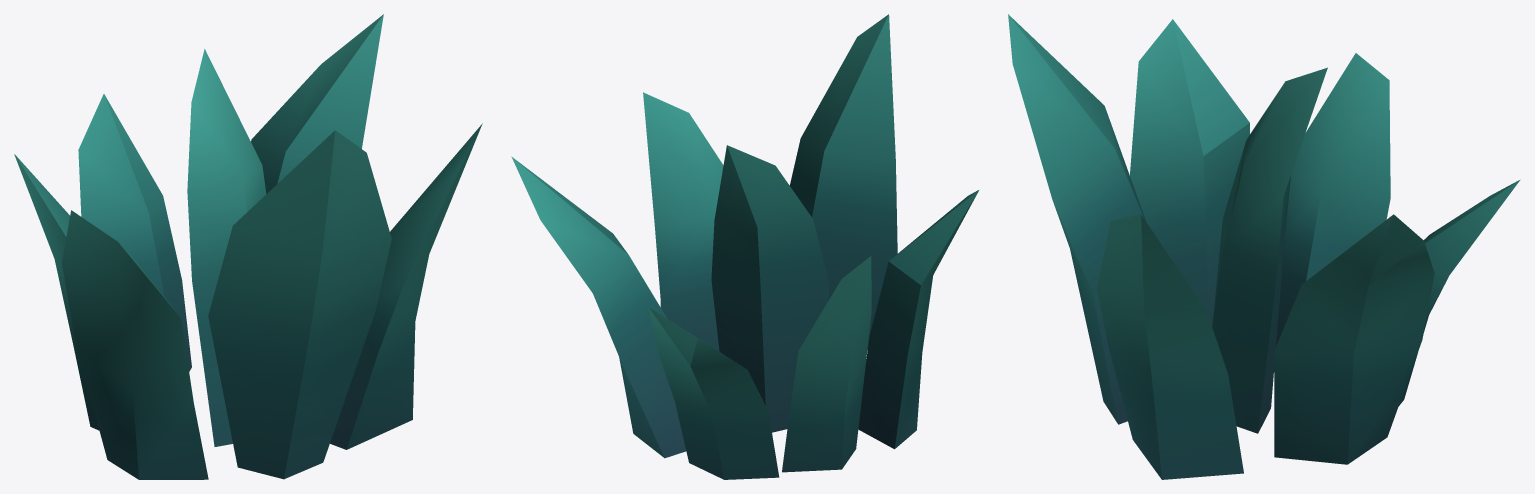
The model's file is grass_blue.glb.
3 views of the same model, side by side, from view 1: azimuth 30°, elevation 25°; view 2: azimuth 150°, elevation 25°; view 3: azimuth 270°, elevation 25° (orthographic). The views are drawn at different scales.
Parts seen in each view (by area): view 1: grass_blue; view 2: grass_blue; view 3: grass_blue.
Boxes of the visible parts, x1,y1,x2,y2 form: grass_blue: (14, 14, 482, 479); grass_blue: (511, 14, 978, 479); grass_blue: (1008, 14, 1520, 479).
Bounding box in the file's own units: 0.5777 × 0.5014 × 0.5978.
Materials: 1 (1 with a texture image).
